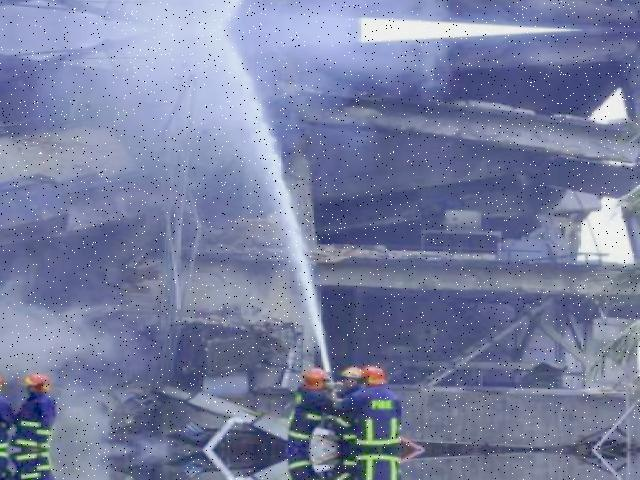Helmet: (355, 360, 391, 386), (296, 364, 330, 390), (18, 370, 49, 393), (338, 360, 358, 378)
